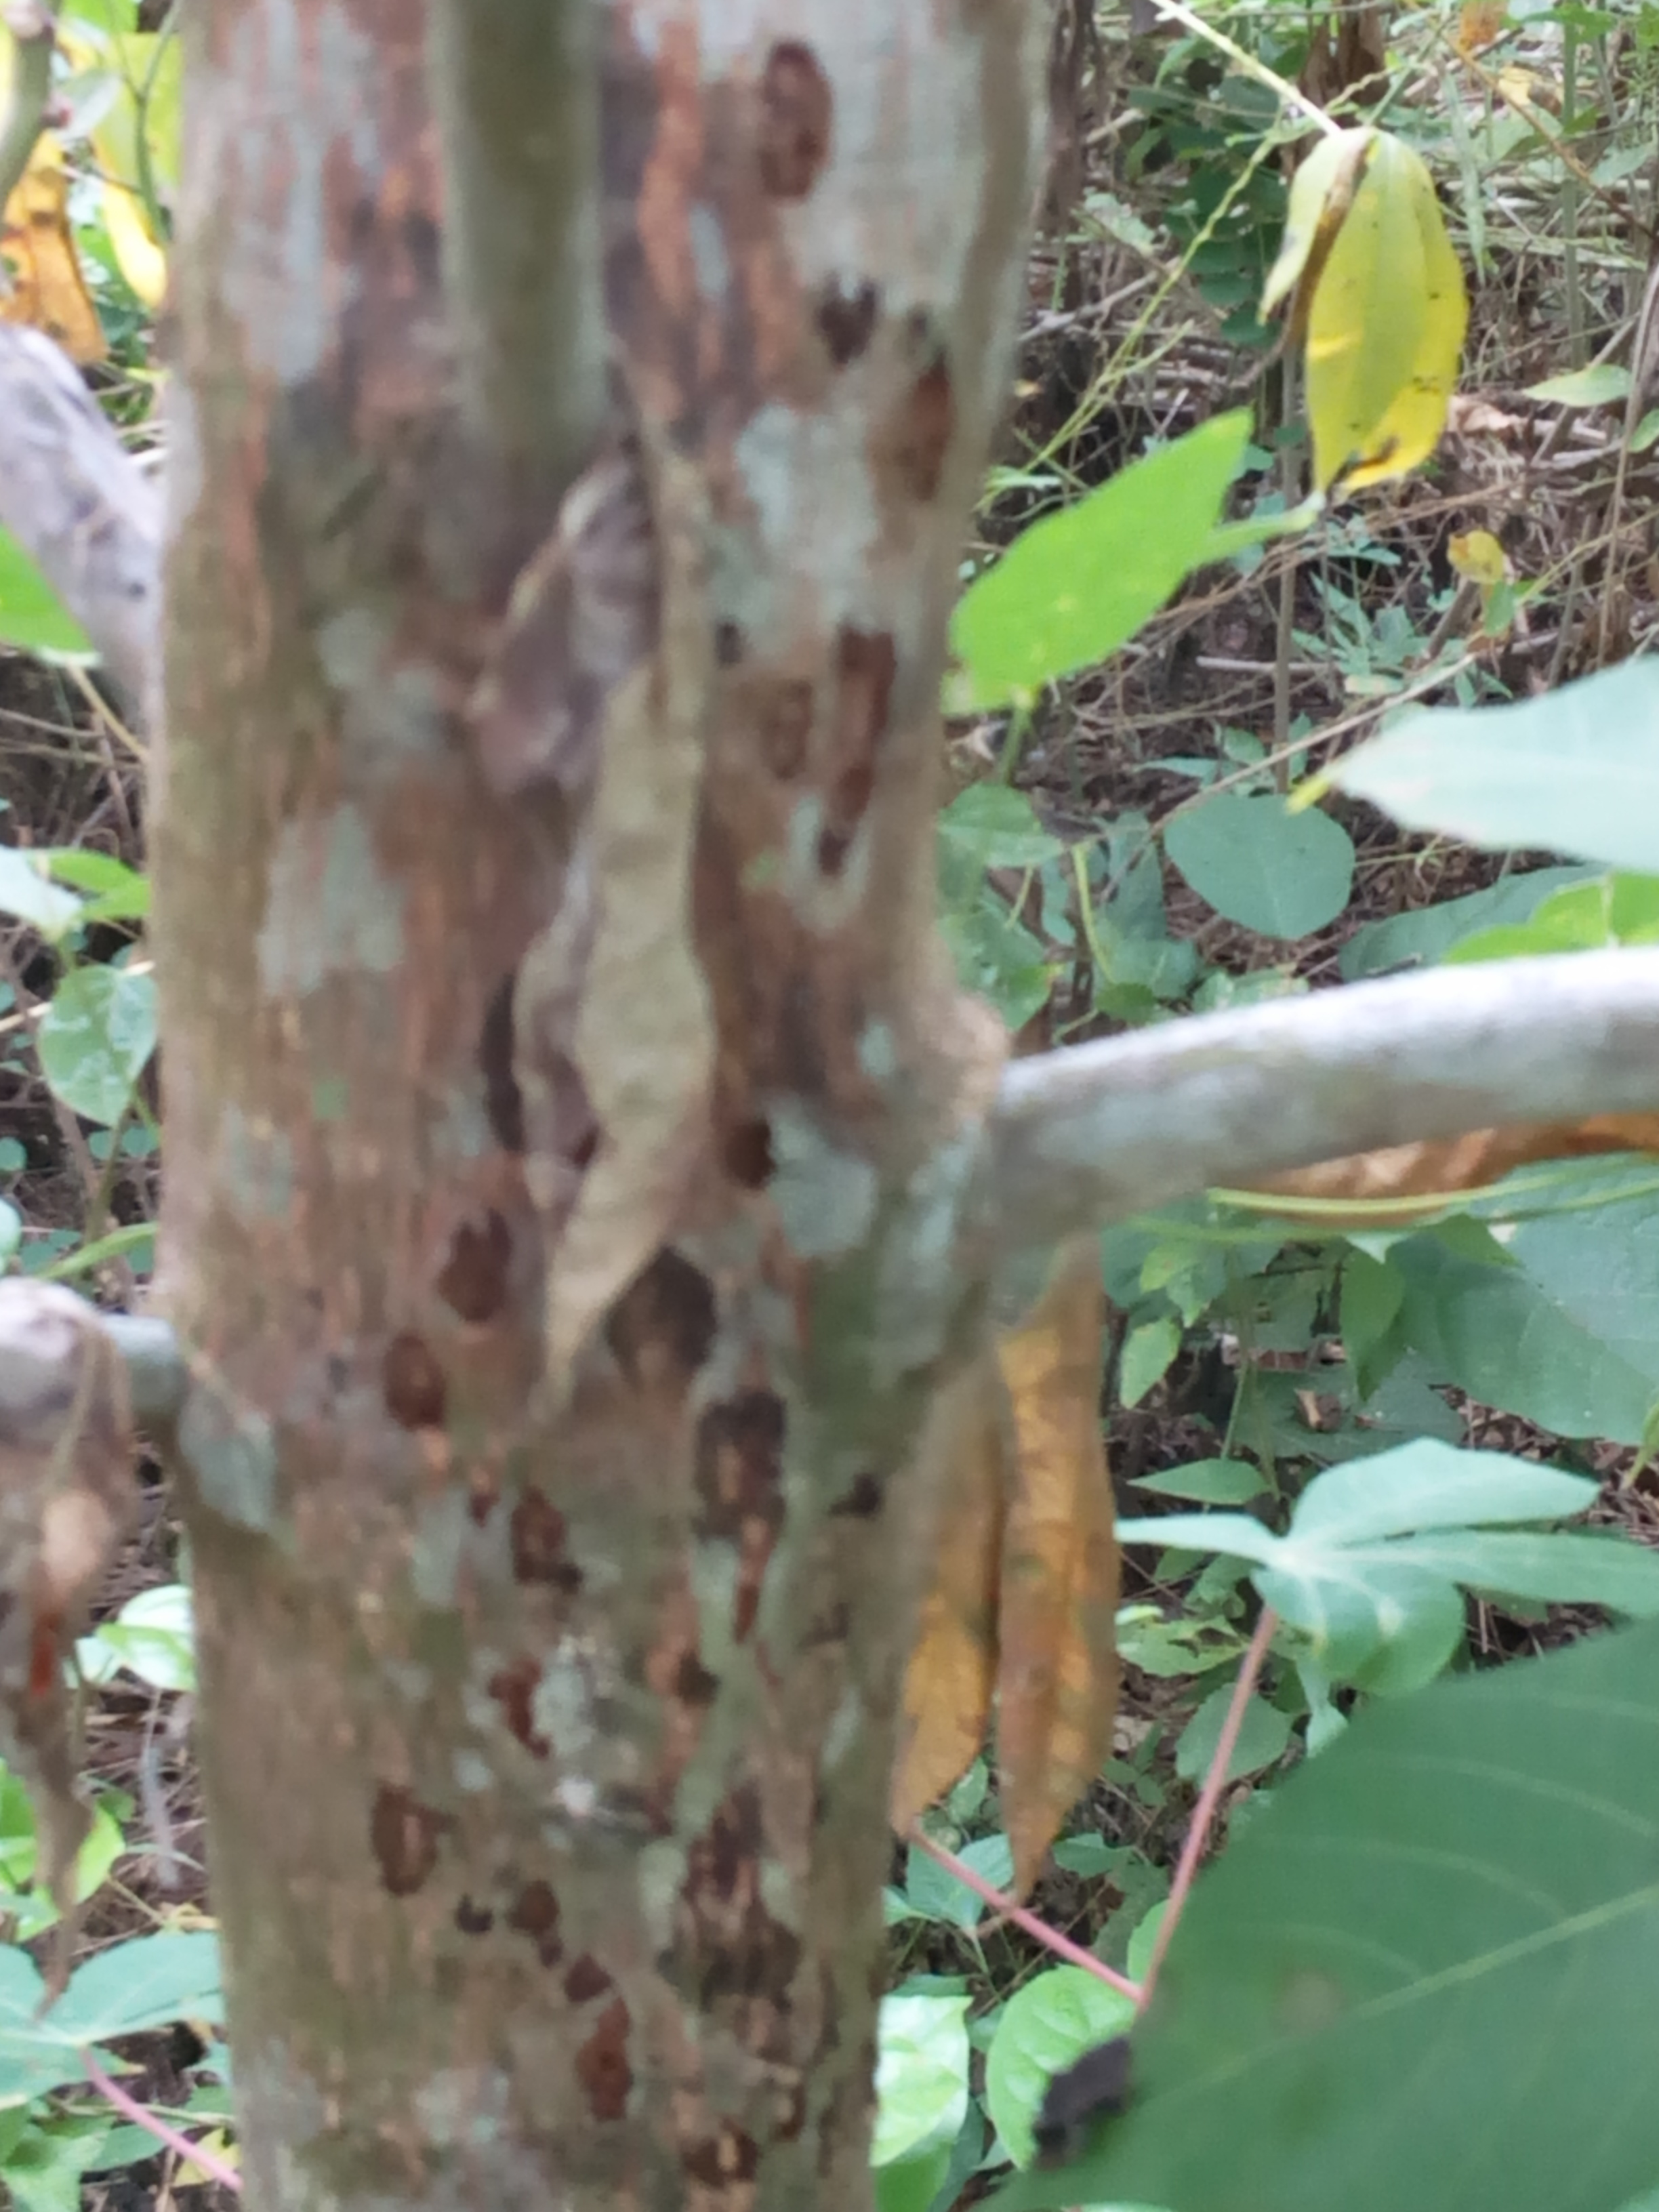Termites: (382, 859, 911, 2184)
